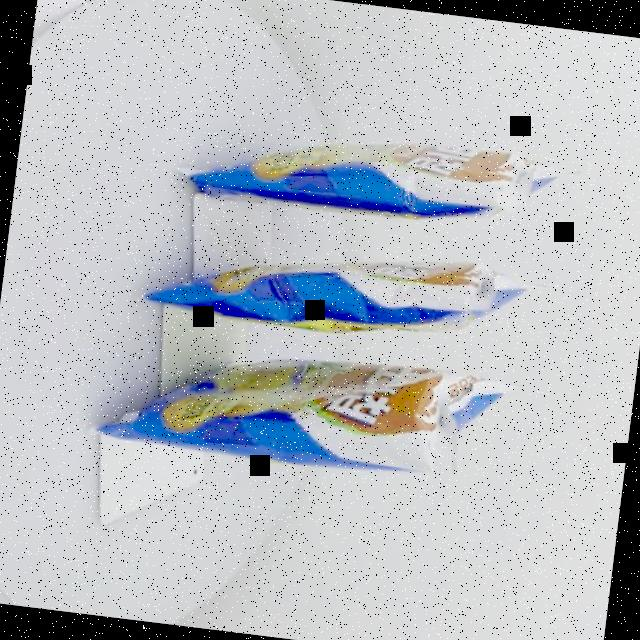snack_bag: (64, 64, 590, 586)
